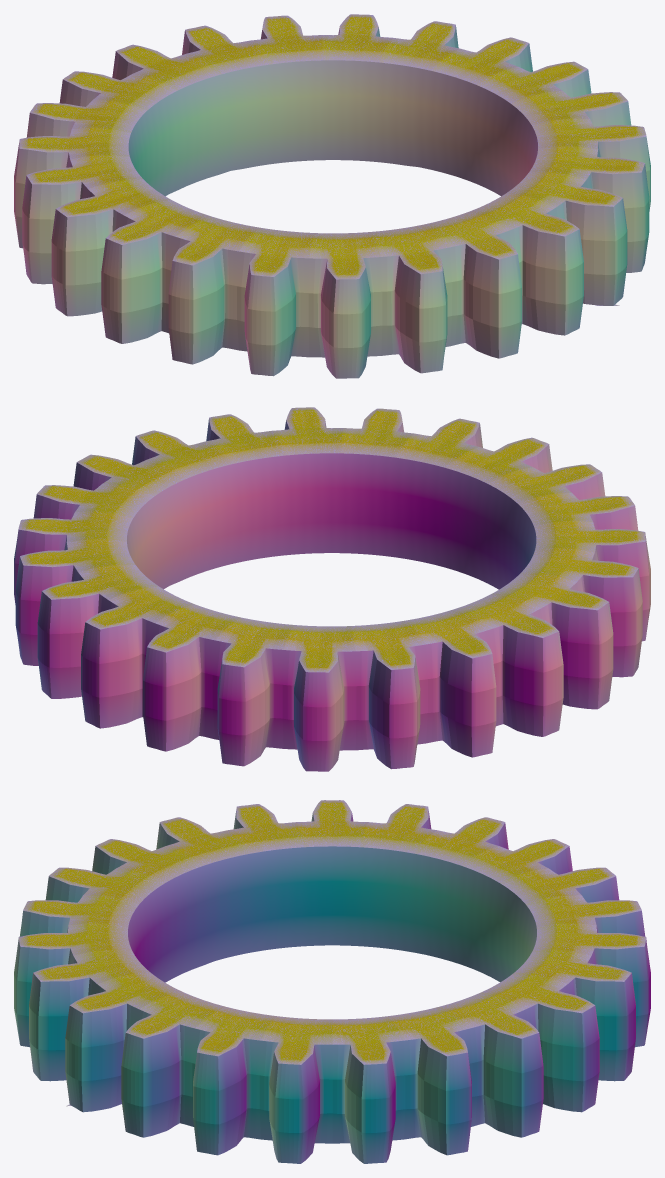
Rendered from Gear.fbx.
The picture shows the model from 3 angles, top to bottom: view 1: azimuth 30°, elevation 25°; view 2: azimuth 150°, elevation 25°; view 3: azimuth 270°, elevation 25°; orthographic projection.
Visible parts, largest first — view 1: Gear; view 2: Gear; view 3: Gear.
Boxes of the visible parts, x1=… form: Gear: x1=14, y1=14, x2=650, y2=378; Gear: x1=14, y1=407, x2=650, y2=771; Gear: x1=14, y1=800, x2=650, y2=1163.
Bounding box in the file's own units: 233 × 42.39 × 233.
